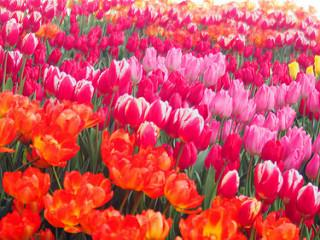tulip: (103, 136, 168, 195), (61, 166, 112, 208), (180, 205, 235, 240), (33, 123, 79, 164), (0, 206, 52, 240), (163, 170, 205, 210), (4, 167, 51, 202), (43, 192, 89, 227), (90, 209, 136, 240), (256, 210, 300, 240), (136, 208, 174, 240), (100, 127, 138, 158), (255, 163, 280, 203), (179, 109, 203, 145), (173, 136, 199, 169), (281, 165, 303, 204), (0, 91, 33, 116), (297, 183, 320, 218), (111, 94, 131, 131), (17, 104, 38, 139), (146, 97, 168, 129), (137, 121, 159, 152), (264, 137, 287, 166), (212, 87, 234, 117), (219, 169, 239, 202), (246, 124, 266, 155), (41, 65, 62, 94), (206, 143, 224, 176), (286, 123, 302, 159), (57, 73, 78, 100), (123, 96, 143, 124), (93, 68, 114, 94), (19, 78, 40, 104), (2, 18, 21, 46), (224, 132, 242, 161), (74, 78, 93, 105), (21, 29, 38, 59), (4, 50, 22, 77), (188, 79, 204, 108), (141, 46, 156, 69)
